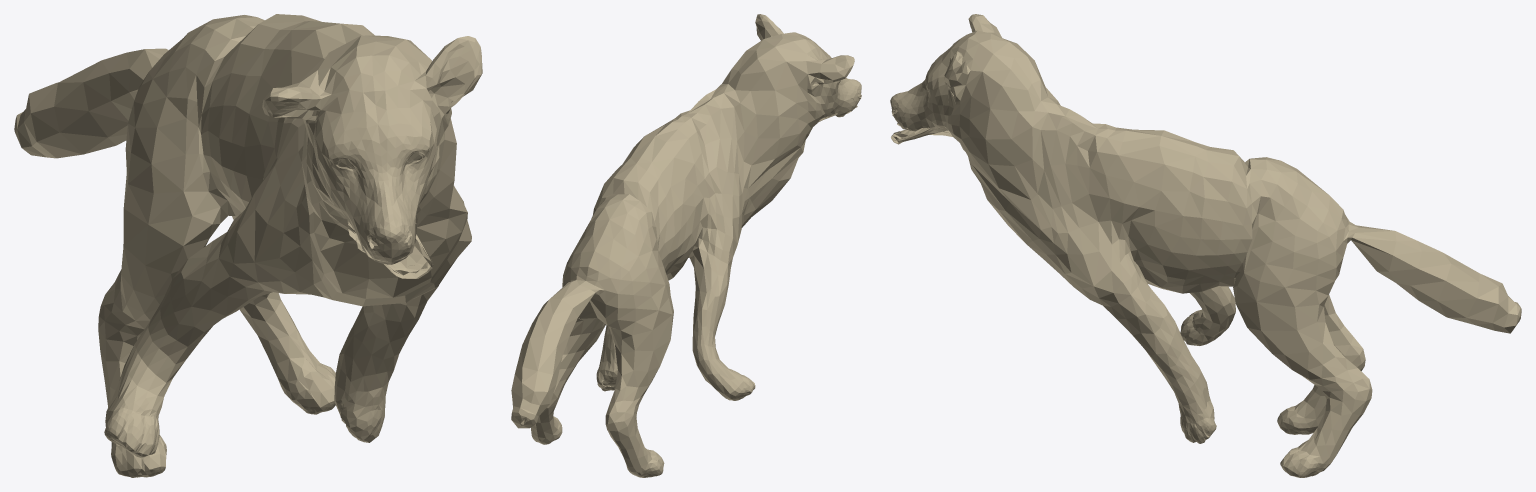
3 renders of one model, left to right at view 1: azimuth 30°, elevation 25°; view 2: azimuth 150°, elevation 25°; view 3: azimuth 270°, elevation 25°, orthographic. The views are drawn at different scales.
Parts seen in each view (by area): view 1: world; view 2: world; view 3: world.
Part boxes in pixels (box(x1,y1,x2,y2)): world: box(14, 14, 482, 477); world: box(511, 14, 861, 477); world: box(890, 14, 1521, 477).
Size of the model in its own units: 0.4736 by 0.8569 by 1.23.
